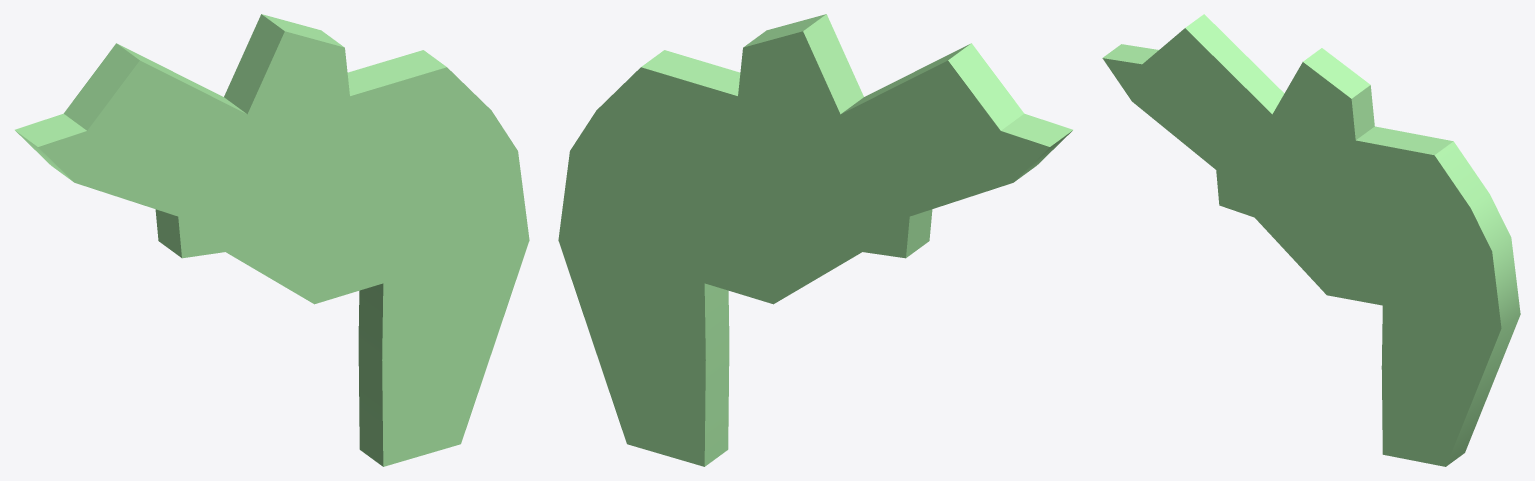
Rendered from coneto_de_comonfort.fbx.
The picture shows the model from 3 angles, left to right: view 1: azimuth 30°, elevation 25°; view 2: azimuth 150°, elevation 25°; view 3: azimuth 330°, elevation 25°; orthographic projection. The views are drawn at different scales.
Parts seen in each view (by area): view 1: coneto_de_comonfort; view 2: coneto_de_comonfort; view 3: coneto_de_comonfort.
Part boxes in pixels (bbox=[...]): coneto_de_comonfort: bbox=[15, 14, 529, 466]; coneto_de_comonfort: bbox=[558, 14, 1072, 466]; coneto_de_comonfort: bbox=[1102, 14, 1520, 466].
Size of the model in its own units: 96.25 by 87.19 by 8.
